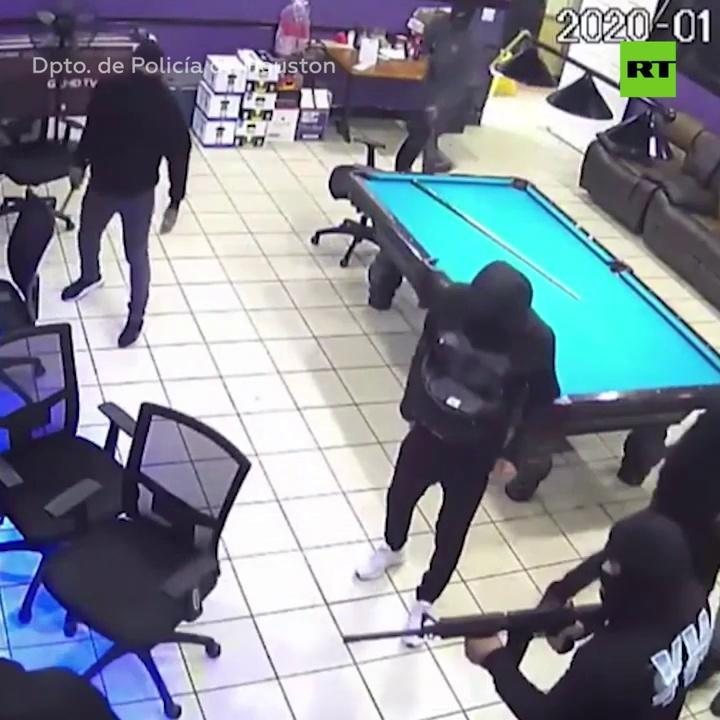Long guns: (321, 592, 602, 697)
